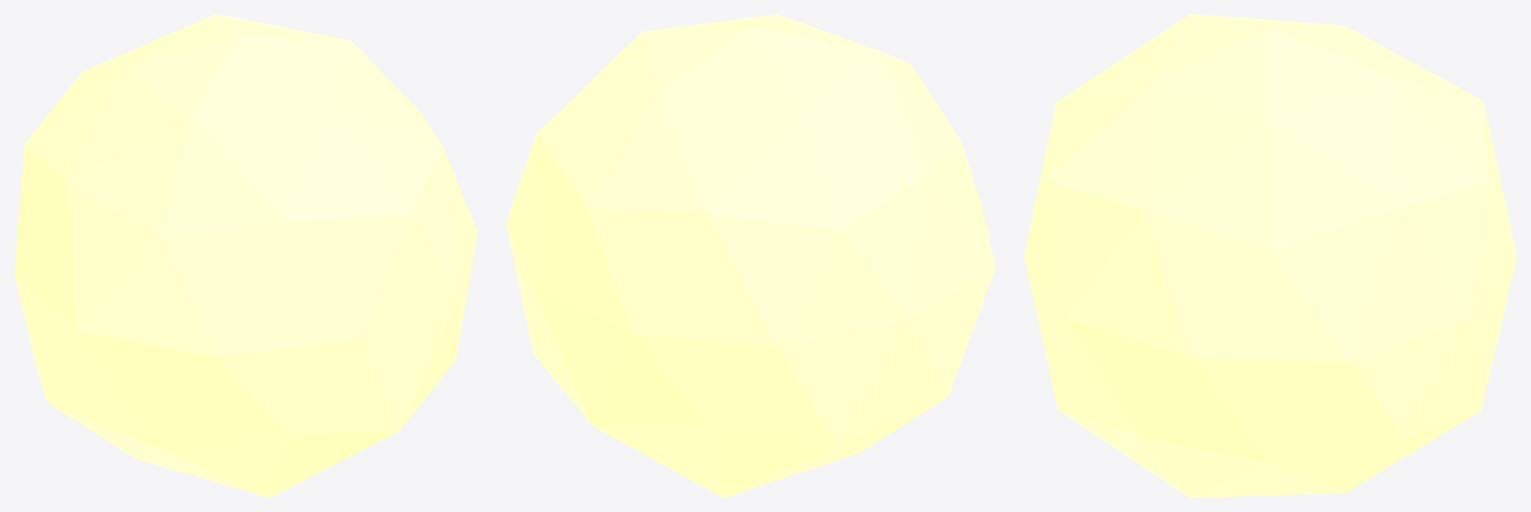
The model's file is EmberCore.fbx.
3 views of the same model, side by side, from view 1: azimuth 30°, elevation 25°; view 2: azimuth 150°, elevation 25°; view 3: azimuth 270°, elevation 25° (orthographic). The views are drawn at different scales.
Visible parts, largest first — view 1: EmberCore; view 2: EmberCore; view 3: EmberCore.
Boxes of the visible parts, left/top/right/bottom form: EmberCore: left=14, top=14, right=477, bottom=497; EmberCore: left=506, top=14, right=995, bottom=497; EmberCore: left=1024, top=14, right=1516, bottom=497.
Bounding box in the file's own units: 0.971 × 0.9921 × 0.9656.
